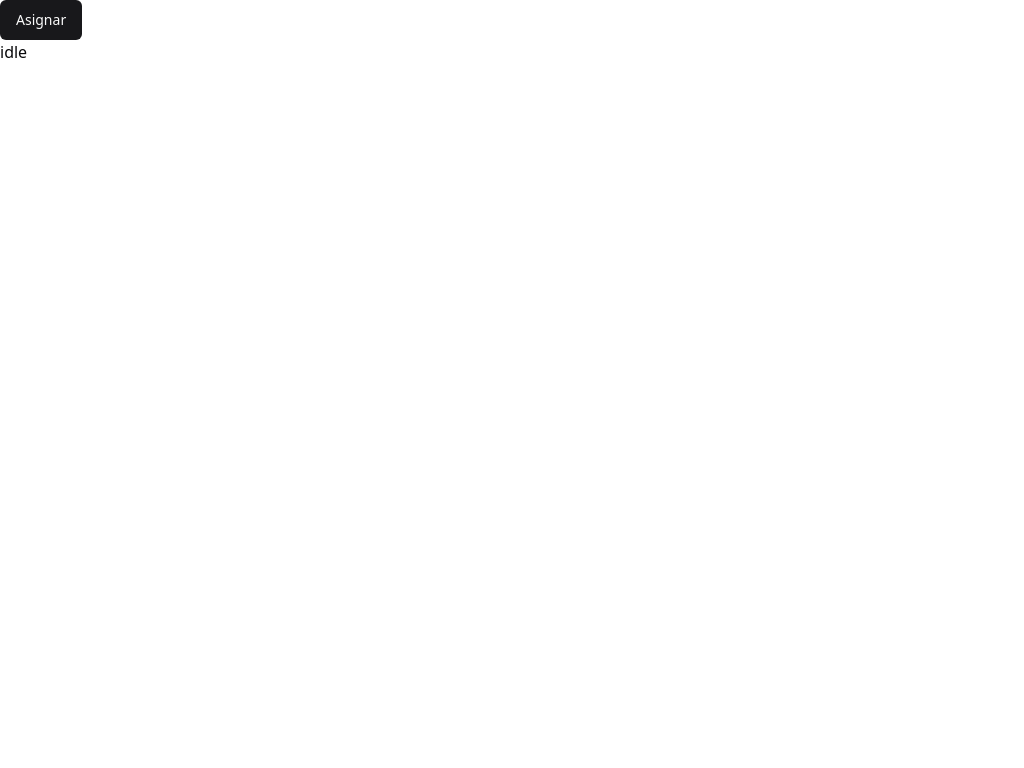
Test: assign dialog confirmation flow › confirm sends force_reassign and replace_active_program_id
What coordinates should you click on to do the following:
click the button "Asignar"
I would click on:
 (41, 20)
Its box is [0,0,82,40].
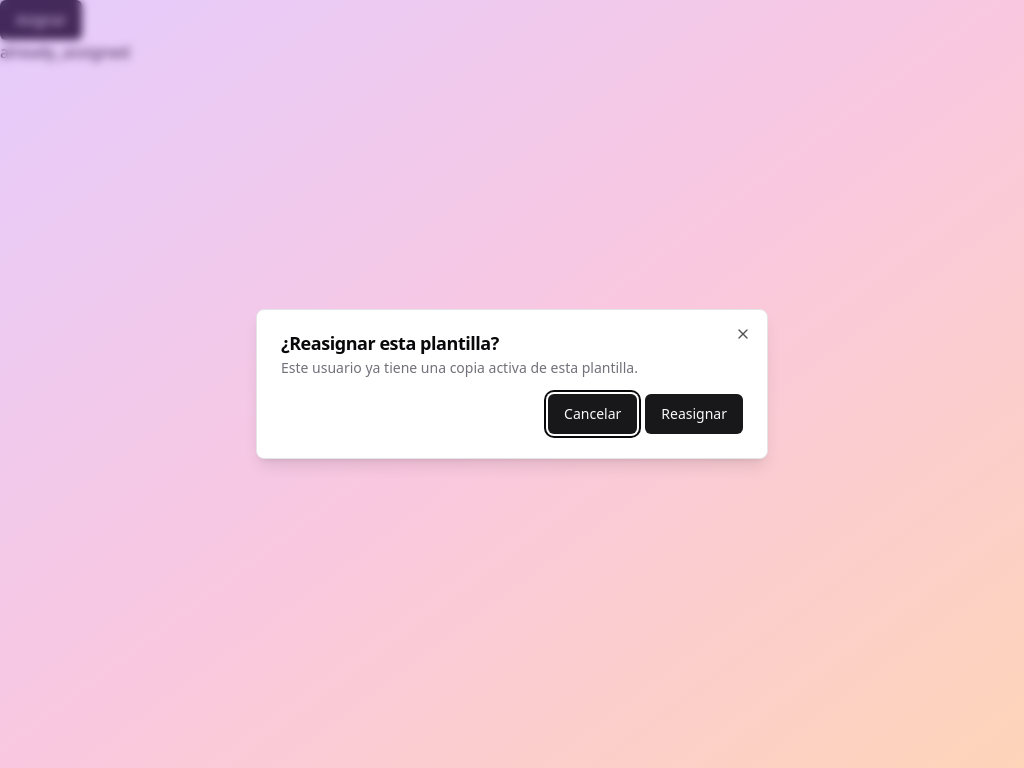
Expected: the heading "¿Reasignar esta plantilla?" is shown, [281,331,499,355]
What coordinates should you click on to do the following:
click the button "Reasignar"
I would click on:
 (694, 414)
Its box is [645,394,743,434].
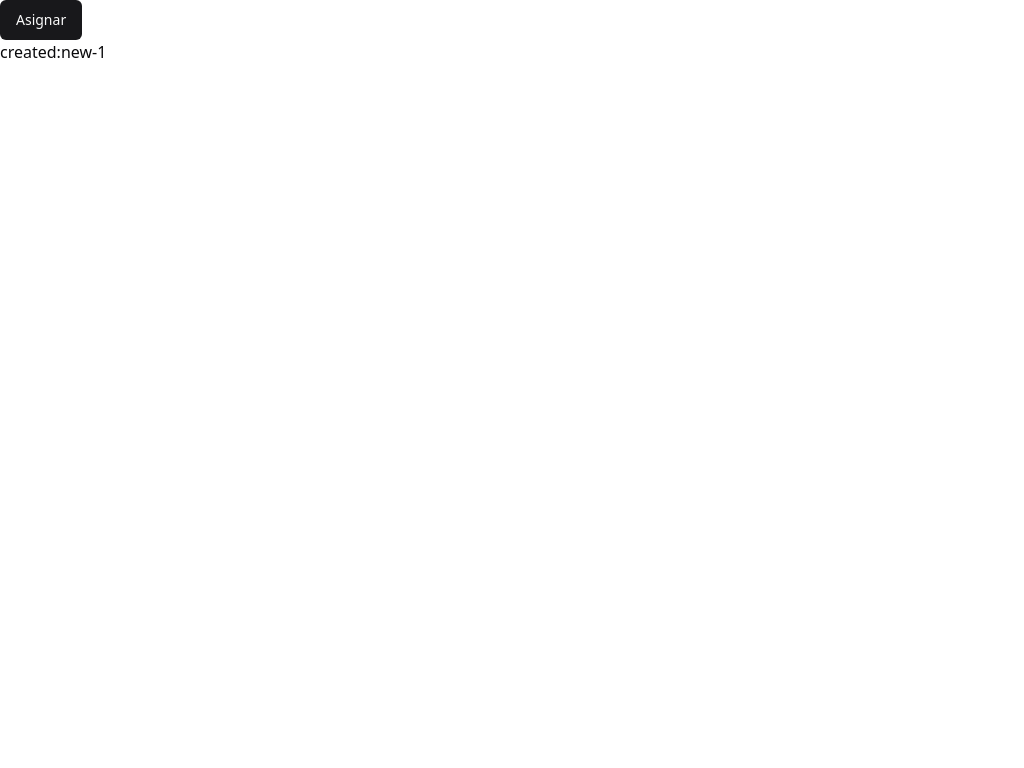
Expected: the text with test id "status" reads "created:new-1", [0,41,106,63]
